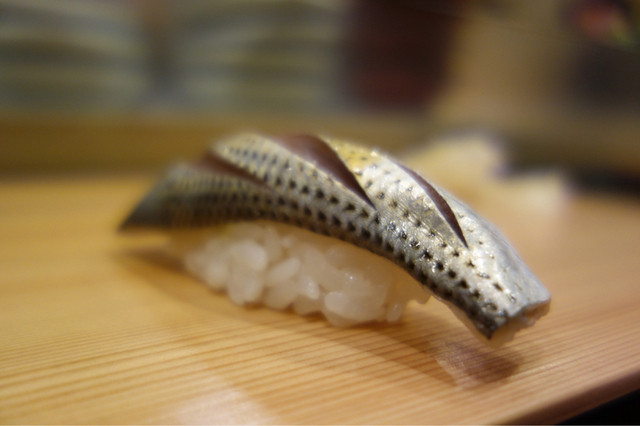spotted-shad: (113, 127, 554, 347)
